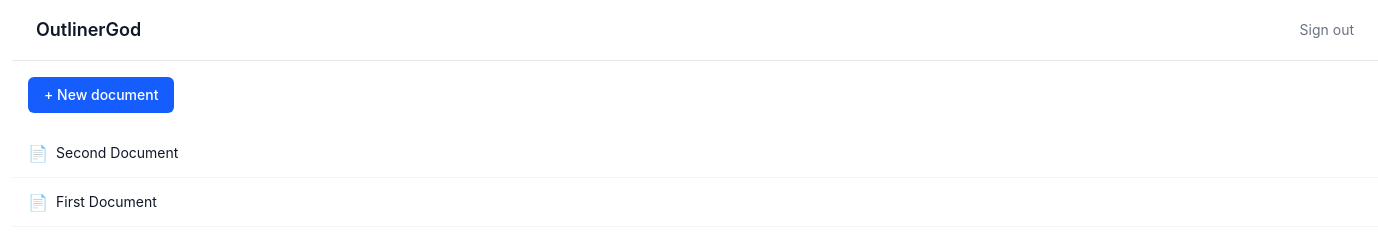
Test case: DOC-03 — Rename › Test 9: right-clicking a document row shows context menu with "Rename" and "Delete" options
This screenshot has width=1378, height=244.
Step 1. Right-click the text "First Document" → [106, 202], box [56,192,157,212]
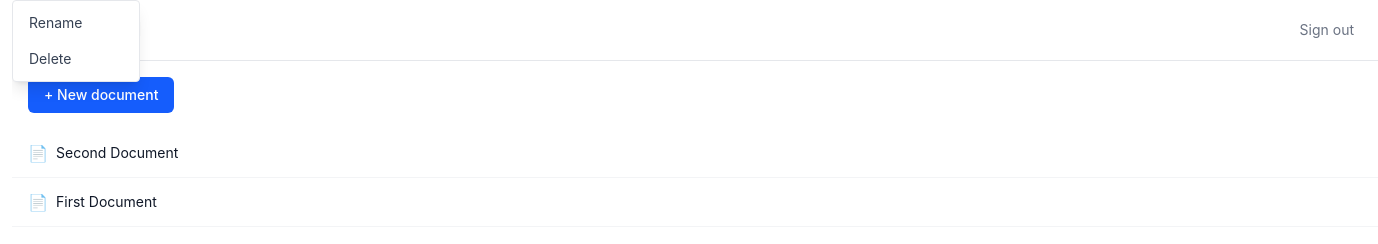
Check: the button "Rename" is shown, box [13,5,139,41]
Check: the button "Delete" is shown, box [13,41,139,77]
